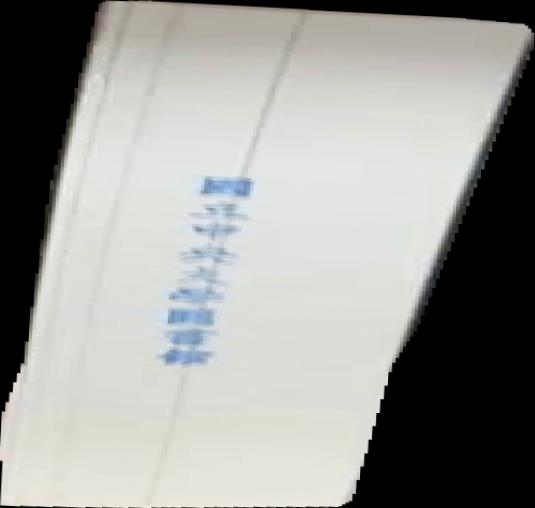backward: (1, 1, 535, 508)
